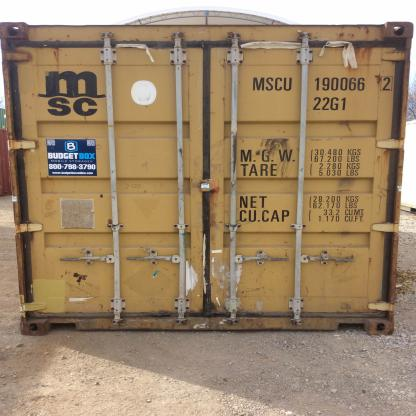Damage: (197, 188, 227, 308), (256, 134, 300, 174), (341, 42, 385, 74), (37, 39, 75, 69), (245, 257, 270, 302), (53, 266, 91, 293), (214, 66, 233, 115), (358, 254, 385, 286), (333, 297, 366, 319), (372, 182, 390, 217), (335, 115, 367, 134), (132, 158, 161, 175), (367, 150, 394, 167), (91, 189, 106, 206), (94, 302, 111, 313)
